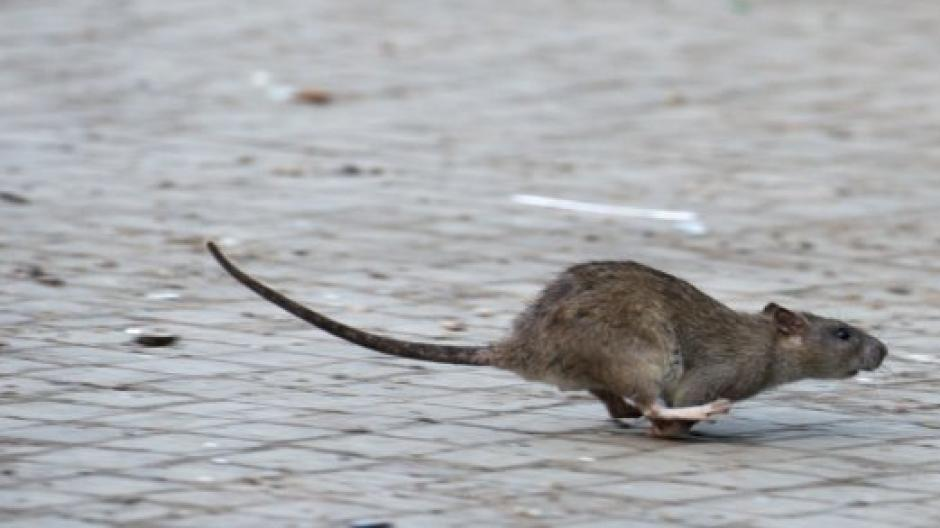rat: (185, 210, 909, 448)
